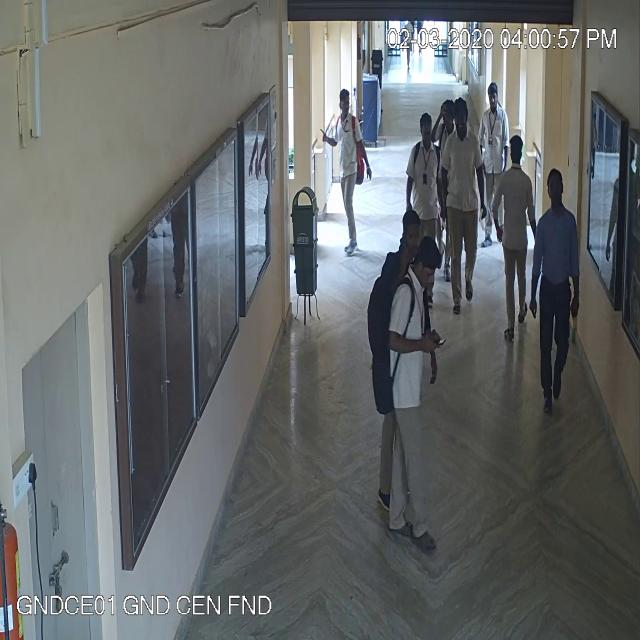fight: (375, 500, 586, 590)
